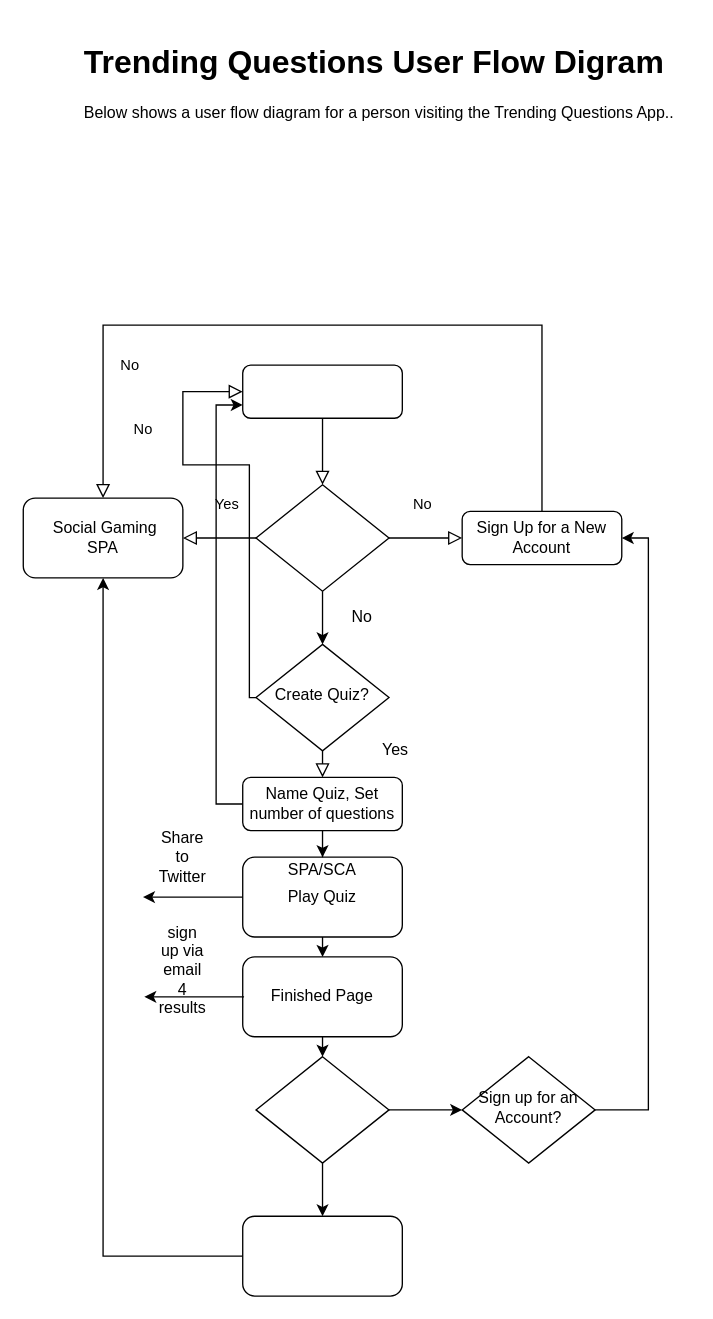
Image size: 713x1319. Some labels were removed from this diagram. Here are the shapes that lost their labels. From the top down, the centre of each, then its label:
pixel 321 391: Landing Page
pixel 322 537: Login?
pixel 322 1109: Share to facebook?
pixel 321 1255: Facebook login & confirmation of sharing to Facebook
